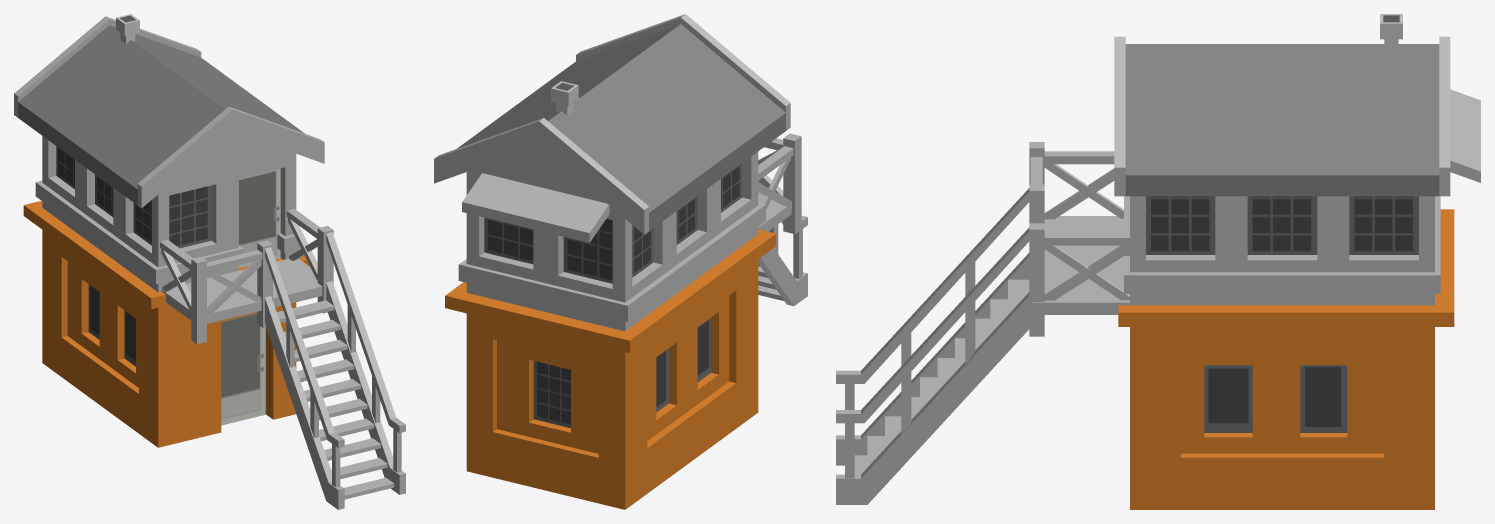
File: west_huoche08.FBX
3 renders of one model, left to right at view 1: azimuth 30°, elevation 25°; view 2: azimuth 150°, elevation 25°; view 3: azimuth 270°, elevation 25°, orthographic. The views are drawn at different scales.
Parts seen in each view (by area): view 1: west_huoche08; view 2: west_huoche08; view 3: west_huoche08.
Part boxes in pixels (x1,y1,x2,y2): west_huoche08: (14, 14, 405, 509); west_huoche08: (434, 14, 807, 509); west_huoche08: (836, 14, 1480, 509).
Bounding box in the file's own units: 1780 × 3156 × 4129.
